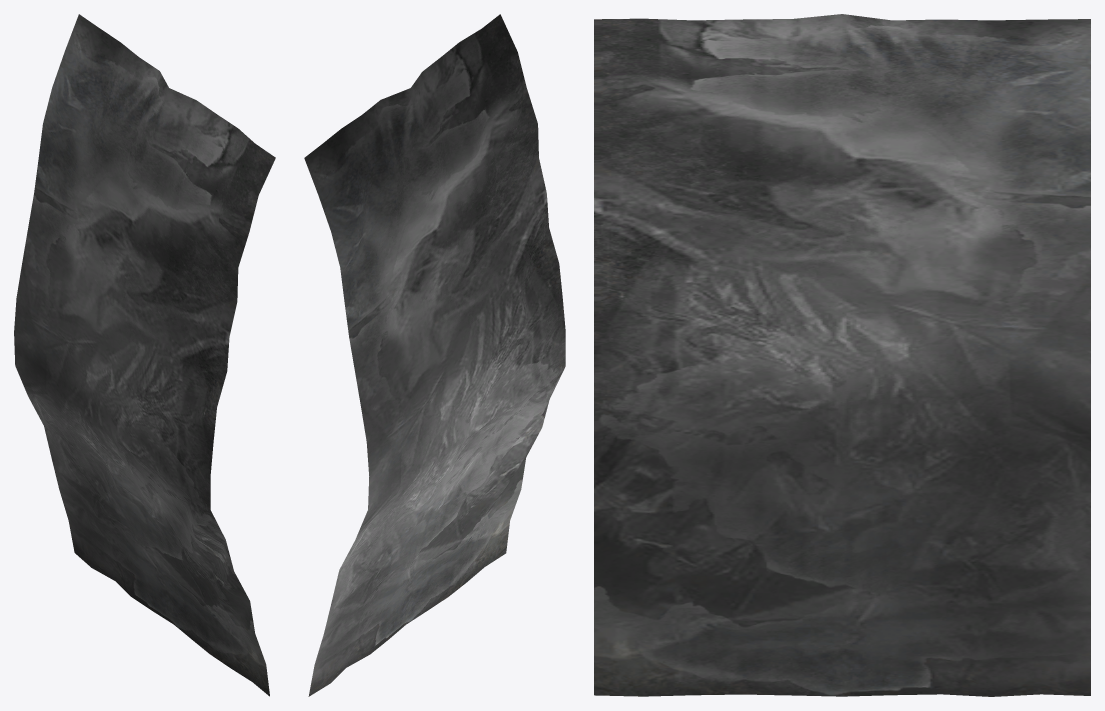
File: hd_dec_UNI_015_Oilcloth_02_anim.glb
3 views of the same model, side by side, from view 1: azimuth 30°, elevation 25°; view 2: azimuth 150°, elevation 25°; view 3: azimuth 270°, elevation 25° (orthographic). The views are drawn at different scales.
Visible parts, largest first — view 1: set_3_group_0, set_4_group_0, set_2_group_0, set_1_group_0; view 2: set_3_group_0, set_4_group_0, set_2_group_0, set_1_group_0, set_0_group_0; view 3: set_4_group_0, set_2_group_0, set_3_group_0, set_1_group_0, set_0_group_0.
Boxes of the visible parts, x1,y1,x2,y2 form: set_3_group_0: (43, 14, 275, 349); set_4_group_0: (14, 104, 142, 567); set_2_group_0: (92, 288, 229, 558); set_1_group_0: (92, 288, 269, 696); set_3_group_0: (304, 14, 538, 335); set_4_group_0: (308, 190, 450, 696); set_2_group_0: (403, 173, 565, 575); set_1_group_0: (331, 158, 548, 682); set_0_group_0: (432, 300, 453, 349); set_4_group_0: (842, 84, 1090, 695); set_2_group_0: (594, 164, 892, 600); set_3_group_0: (594, 14, 1090, 280); set_1_group_0: (594, 164, 1040, 696); set_0_group_0: (843, 242, 892, 280).
Bounding box in the file's own units: 0.8408 × 6.43 × 4.26.
5 materials, 5 textured.
